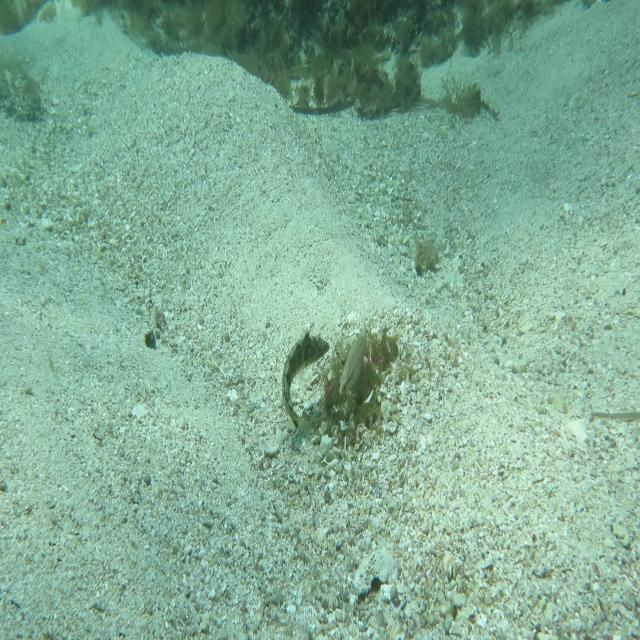BEND: (279, 313, 330, 443)
female: (337, 316, 371, 402)
nest: (314, 330, 408, 446)
vegetation: (114, 0, 542, 57), (245, 62, 446, 125), (407, 234, 441, 279)
